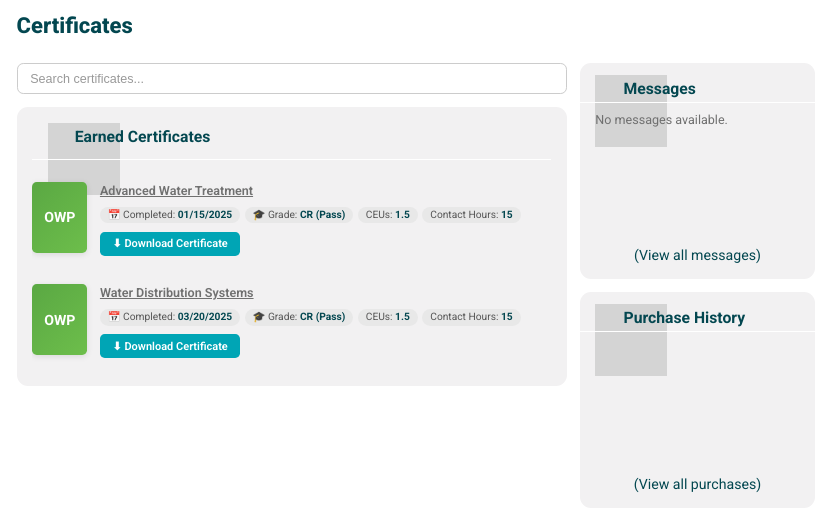
Test: CertificatesPage — Integration Tests › filters certificates as user types in search box
This screenshot has width=832, height=525.
Type "advanced" into the field with class "search-input".
click(292, 79); type("advanced")  # box [17,63,567,94]
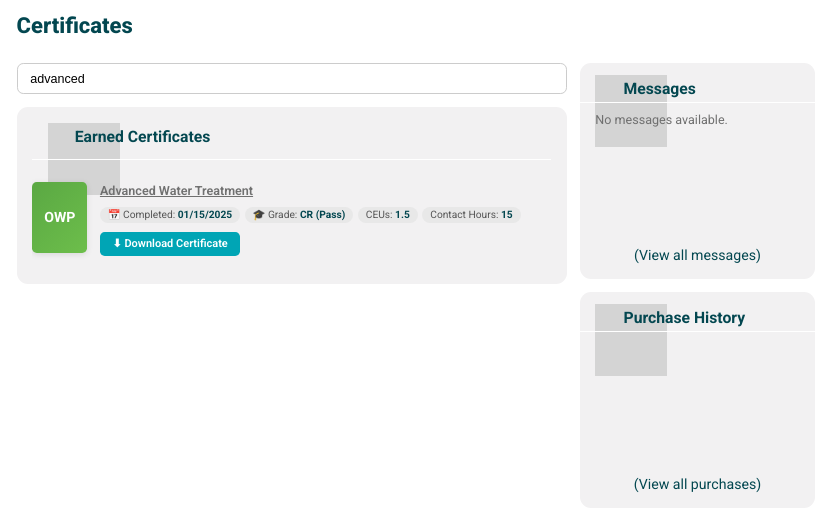
Expected: the text "Advanced Water Treatment" is shown, [100,183,253,198]
Expected: the number of elements with class "certificate-item" is 1, [32,182,521,256]
